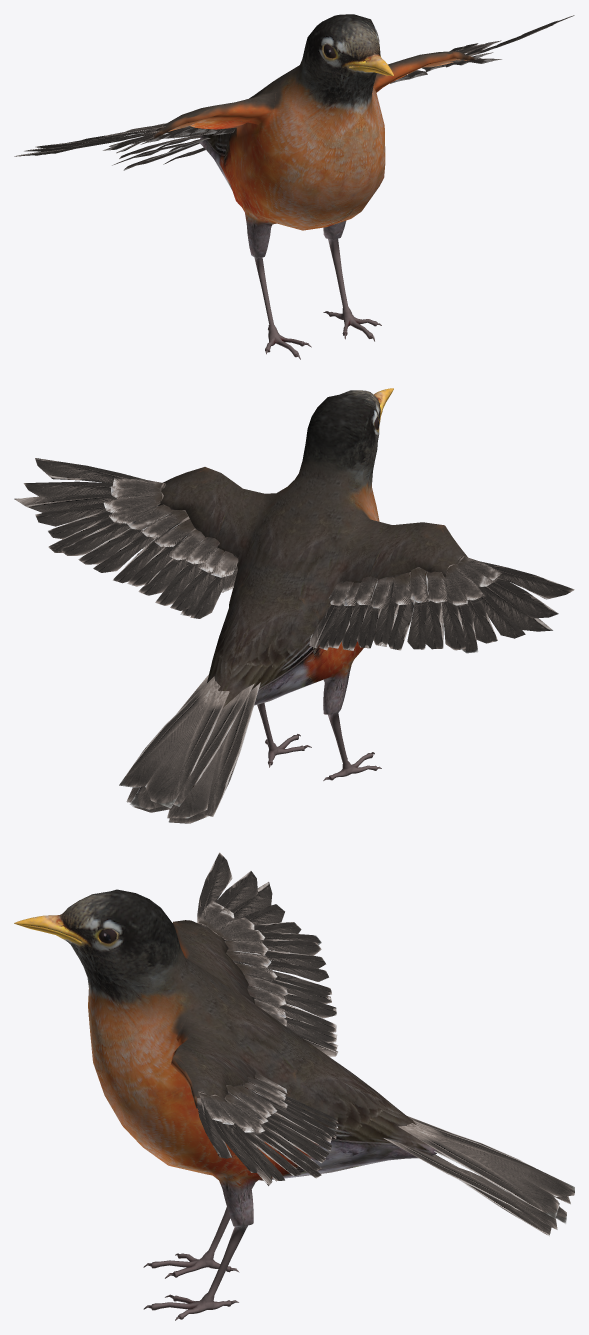
File: american-robin.gltf
The picture shows the model from 3 angles, top to bottom: view 1: azimuth 30°, elevation 25°; view 2: azimuth 150°, elevation 25°; view 3: azimuth 270°, elevation 25°; orthographic projection. The views are drawn at different scales.
Visible parts, largest first — view 1: RobinCorrectedB; view 2: RobinCorrectedB; view 3: RobinCorrectedB.
Boxes of the visible parts, x1=… form: RobinCorrectedB: x1=14, y1=14, x2=574, y2=359; RobinCorrectedB: x1=14, y1=388, x2=574, y2=823; RobinCorrectedB: x1=14, y1=852, x2=574, y2=1320.
Size of the model in its own units: 2.45 by 1.48 by 1.9.
Materials: 1 (1 with a texture image).
